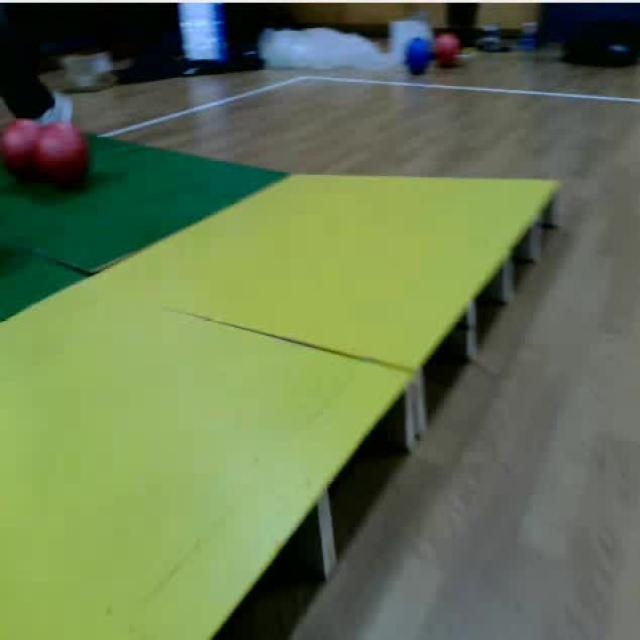blue_ball: (404, 33, 430, 80)
red_ball: (36, 120, 92, 190), (0, 122, 43, 185), (432, 31, 464, 72)
